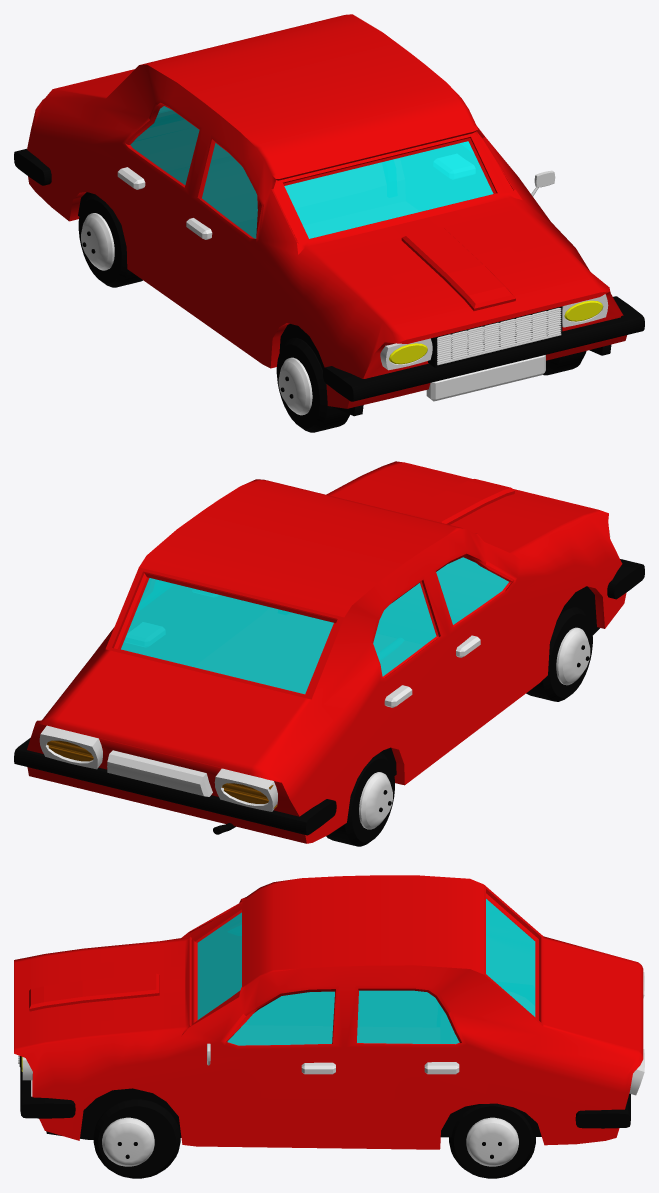
Rendered from voiture_rouge.fbx.
3 renders of one model, top to bottom at view 1: azimuth 30°, elevation 25°; view 2: azimuth 150°, elevation 25°; view 3: azimuth 270°, elevation 25°, orthographic. The views are drawn at different scales.
Parts seen in each view (by area): view 1: voiture_caro, voiture_01_roues_02, voiture_01_roue_01; view 2: voiture_caro, voiture_01_roues_02, voiture_01_roue_01; view 3: voiture_caro, voiture_01_roues_04, voiture_01_roues_03.
Boxes of the visible parts, box(x1,y1,x2,y2) form: voiture_caro: box(14, 14, 644, 416); voiture_01_roues_02: box(276, 337, 349, 432); voiture_01_roue_01: box(78, 194, 142, 287); voiture_caro: box(14, 461, 644, 843); voiture_01_roues_02: box(526, 607, 592, 701); voiture_01_roue_01: box(326, 752, 394, 846); voiture_caro: box(14, 875, 644, 1149); voiture_01_roues_04: box(93, 1099, 180, 1178); voiture_01_roues_03: box(449, 1103, 535, 1178).
Size of the model in its own units: 102 by 71.17 by 201.
